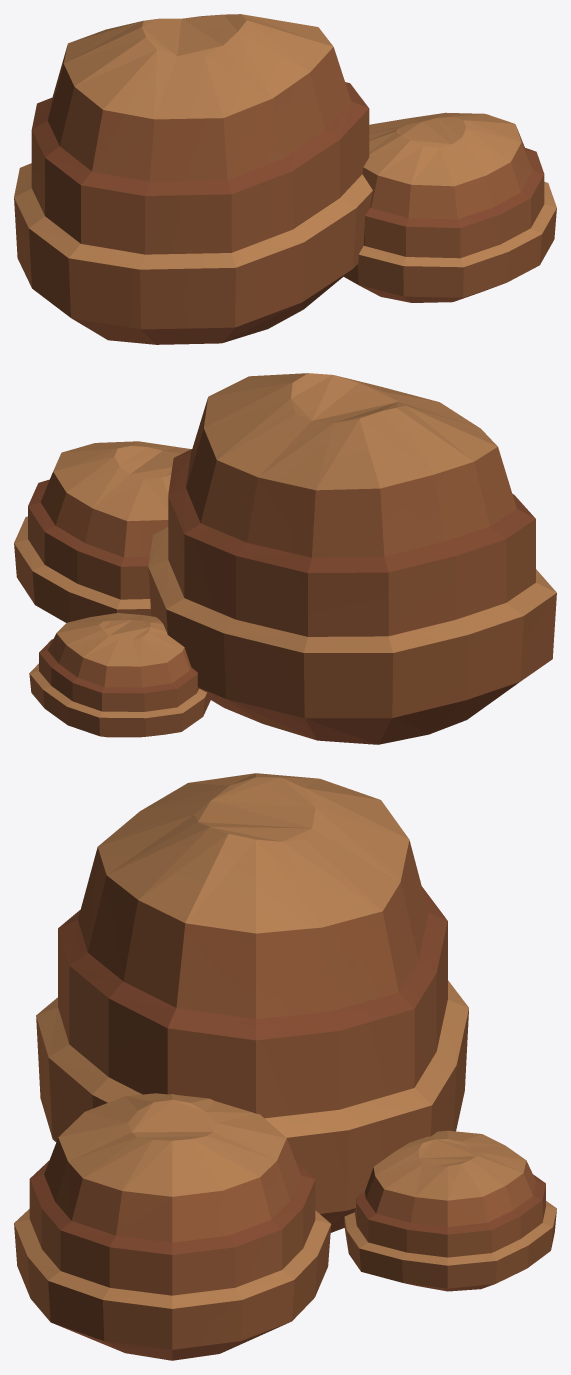
The model's file is Prop_Desert_SandstoneCluster_001.glb.
The picture shows the model from 3 angles, top to bottom: view 1: azimuth 30°, elevation 25°; view 2: azimuth 150°, elevation 25°; view 3: azimuth 270°, elevation 25°; orthographic projection. The views are drawn at different scales.
Visible parts, largest first — view 1: DS_SandstoneBoulders_Body; view 2: DS_SandstoneBoulders_Body; view 3: DS_SandstoneBoulders_Body.
Part boxes in pixels (bbox=[...]): DS_SandstoneBoulders_Body: bbox=[14, 14, 556, 344]; DS_SandstoneBoulders_Body: bbox=[14, 373, 556, 744]; DS_SandstoneBoulders_Body: bbox=[14, 773, 556, 1360].
Bounding box in the file's own units: 3.17 × 1.69 × 2.27.
